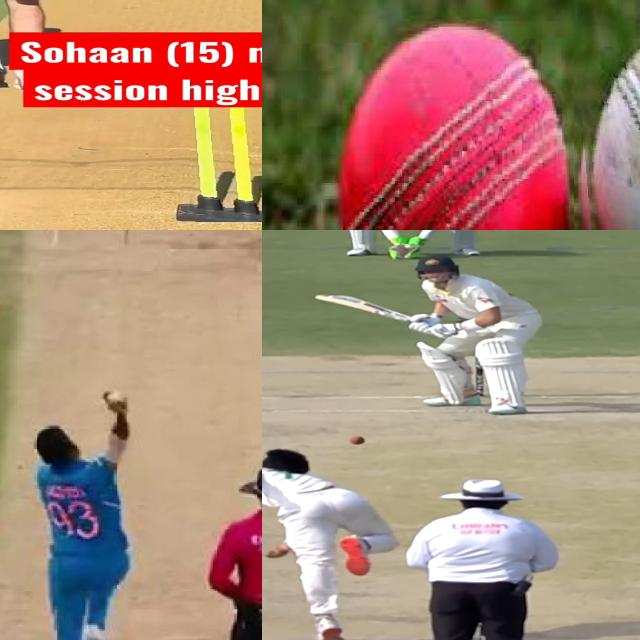Cricket ball: (325, 20, 574, 230), (105, 388, 129, 405), (347, 435, 366, 446)
Stumps: (179, 107, 262, 222)
